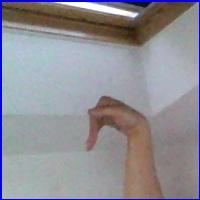del: (81, 90, 148, 156)
